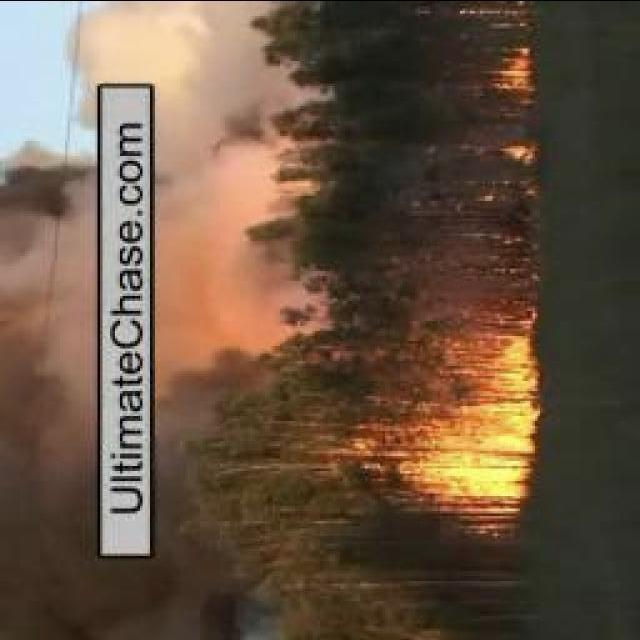Fire: (382, 322, 537, 534), (487, 40, 536, 96), (496, 134, 534, 167)
